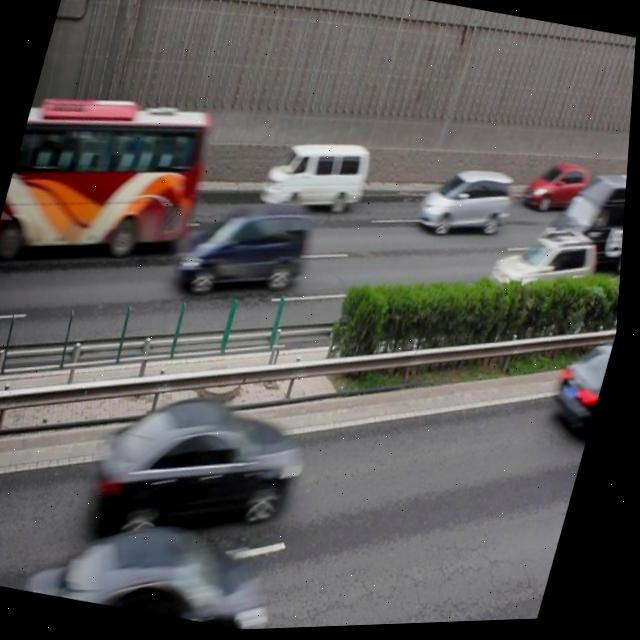car: (88, 374, 320, 558), (25, 490, 294, 638), (530, 159, 631, 291), (486, 219, 607, 323), (521, 157, 599, 223)
truck: (173, 185, 321, 314), (258, 128, 377, 225), (414, 160, 521, 249)
van: (0, 81, 218, 290)
